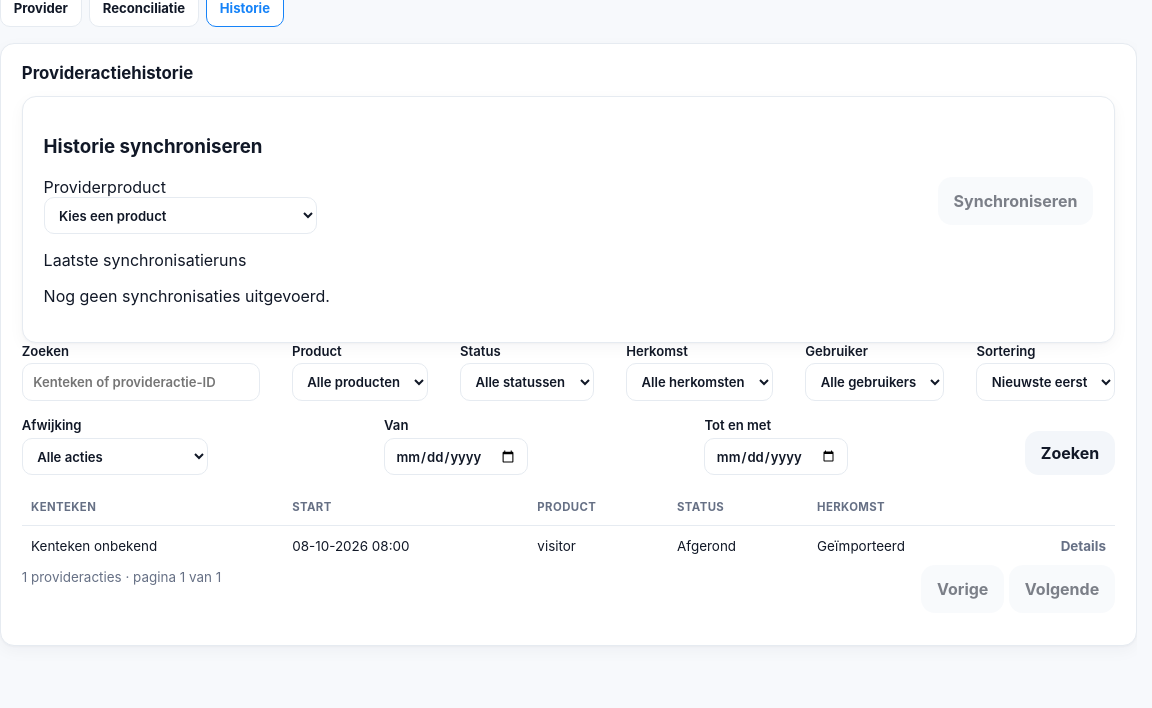
Test: AdminProviderHistoryPage assignment › labels an imported action without a license plate as unknown
expect the text "Kenteken onbekend" is shown: met, box left=22, top=526, right=283, bottom=565
Click the button "Details": (1083, 546) left=1061, top=538, right=1106, bottom=554
(page scrolled)
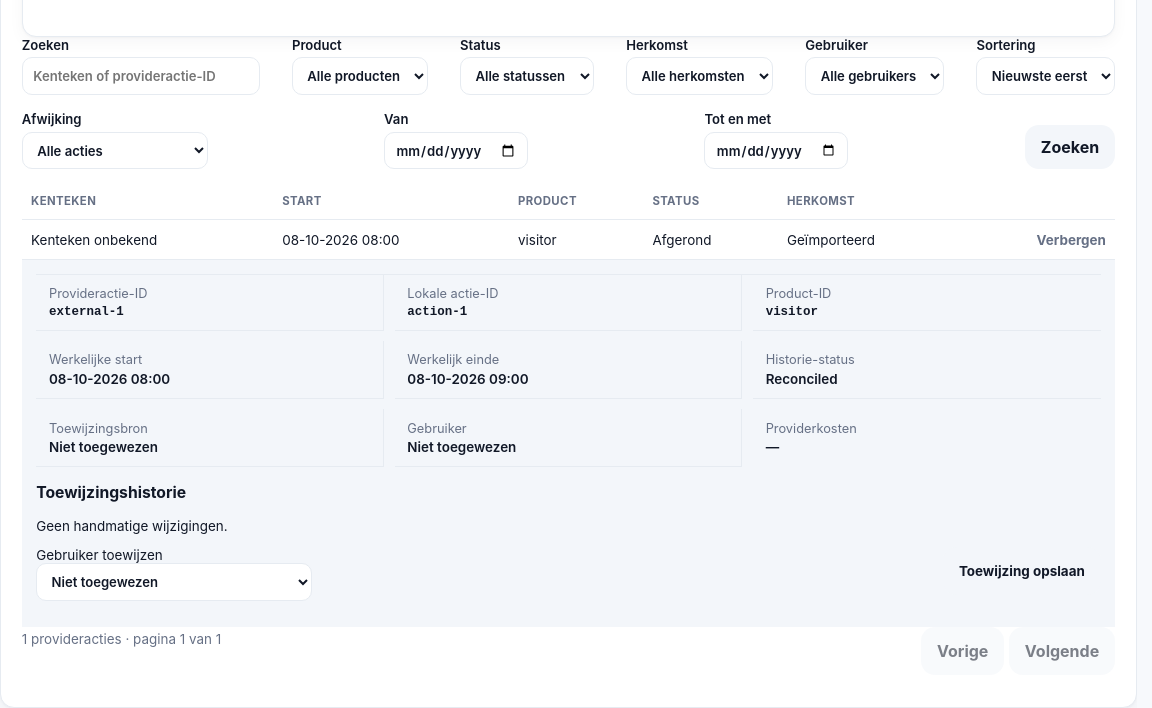
expect the text "Niet toegewezen" below "Toewijzingsbron" is shown: met, box left=49, top=439, right=158, bottom=455
